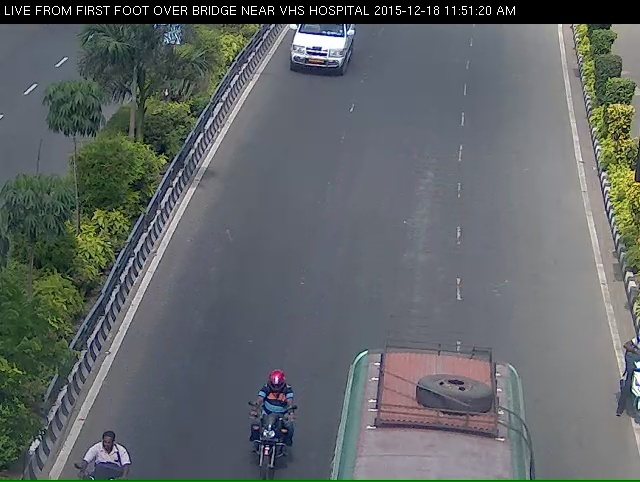Bus: (327, 377, 530, 480)
Car: (285, 20, 352, 88)
Person: (233, 404, 295, 480)
